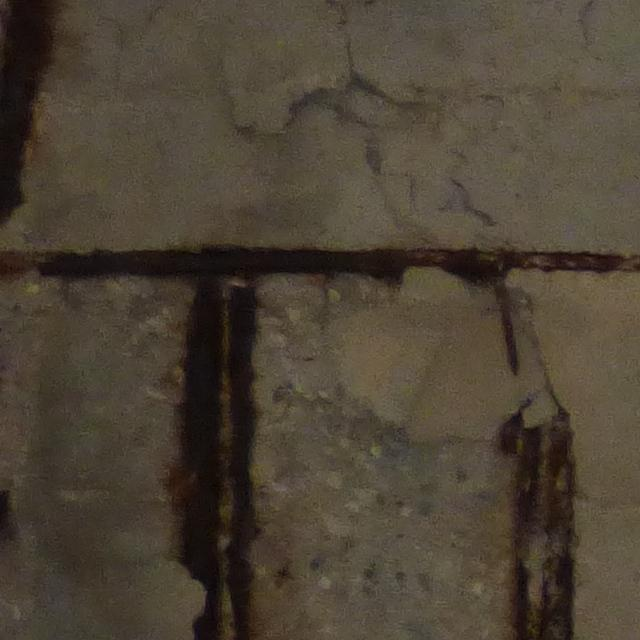Rust: (6, 248, 636, 287), (514, 411, 581, 640), (226, 283, 265, 640), (182, 284, 222, 631)
